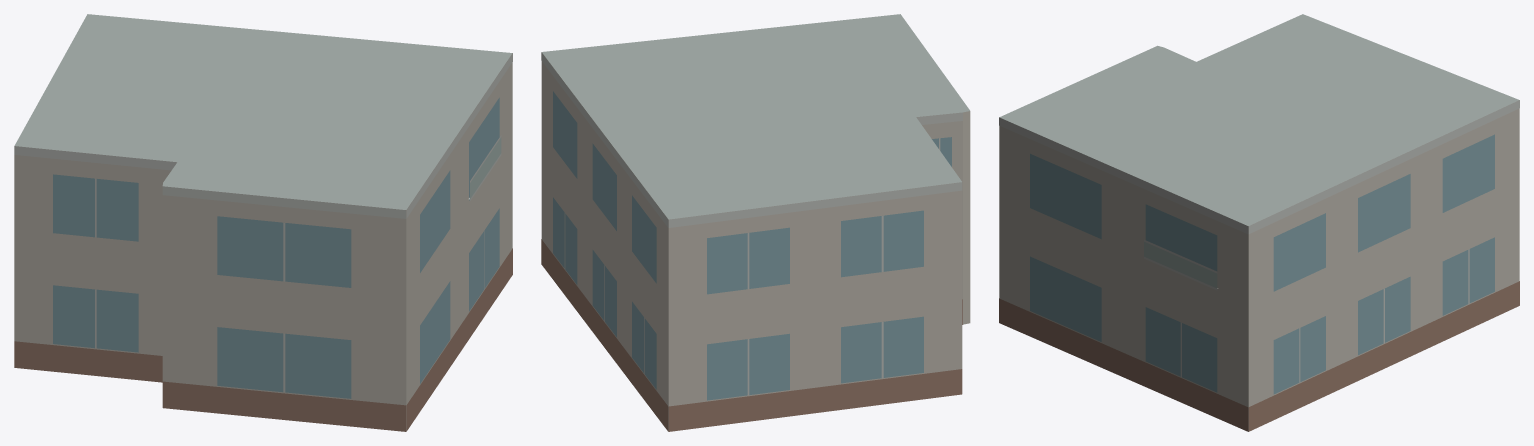
The model's file is survey-upis-32872289.glb.
3 views of the same model, side by side, from view 1: azimuth 30°, elevation 25°; view 2: azimuth 150°, elevation 25°; view 3: azimuth 270°, elevation 25° (orthographic). The views are drawn at different scales.
Parts seen in each view (by area): view 1: survey-upis-32872289.tmp; view 2: survey-upis-32872289.tmp; view 3: survey-upis-32872289.tmp.
Part boxes in pixels (x1=…): survey-upis-32872289.tmp: x1=14, y1=14, x2=512, y2=431; survey-upis-32872289.tmp: x1=541, y1=14, x2=970, y2=431; survey-upis-32872289.tmp: x1=999, y1=14, x2=1519, y2=431.
Bounding box in the file's own units: 13.51 × 6.1 × 14.
